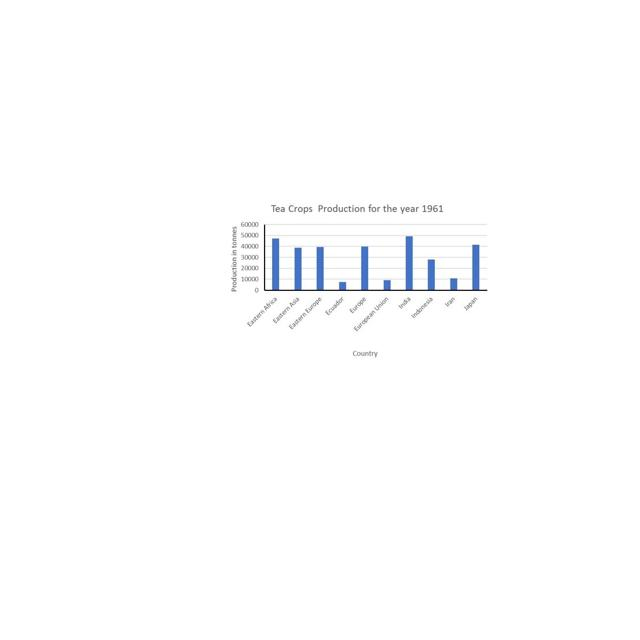Graph: (222, 198, 489, 359)
